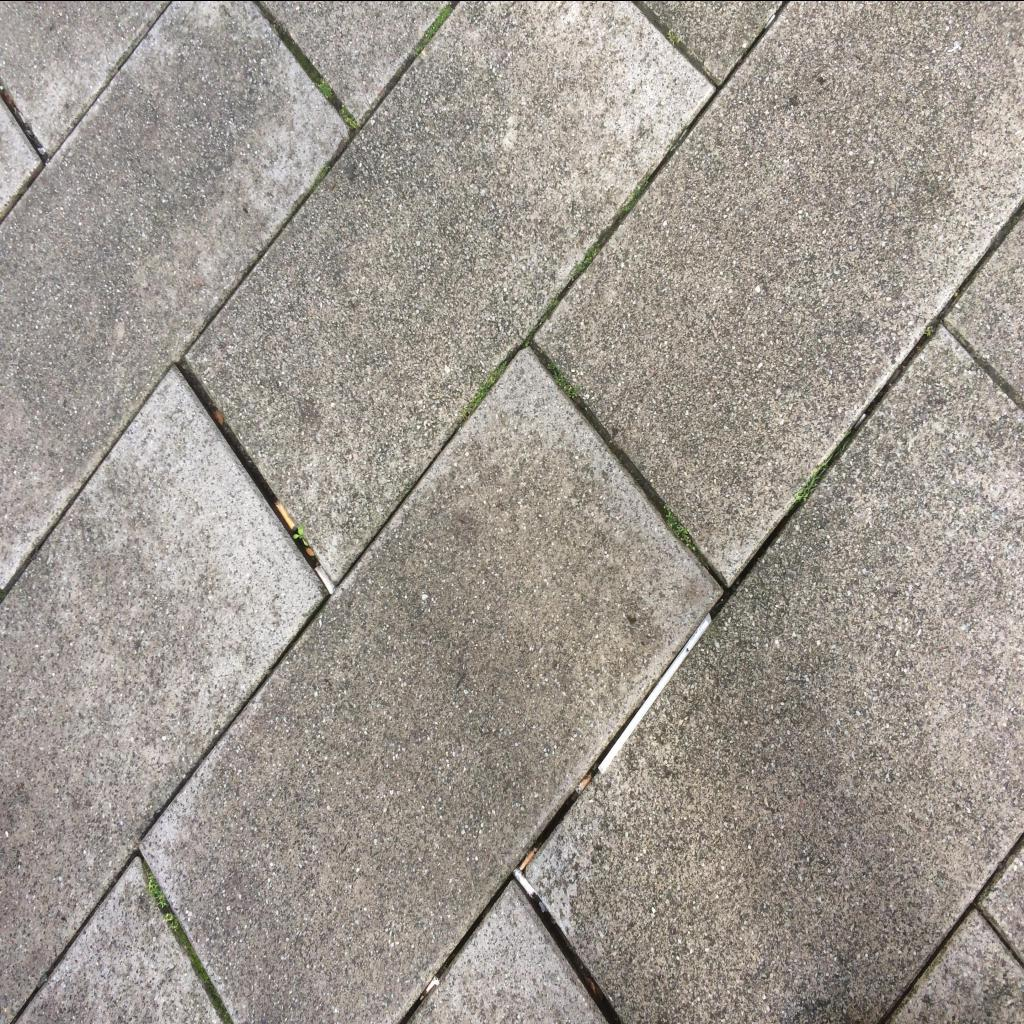Cigarette: (512, 866, 538, 898), (275, 500, 297, 530), (315, 565, 337, 595), (420, 976, 440, 1002), (520, 846, 538, 870), (576, 773, 592, 795)
Plastic straw: (599, 612, 711, 772)
